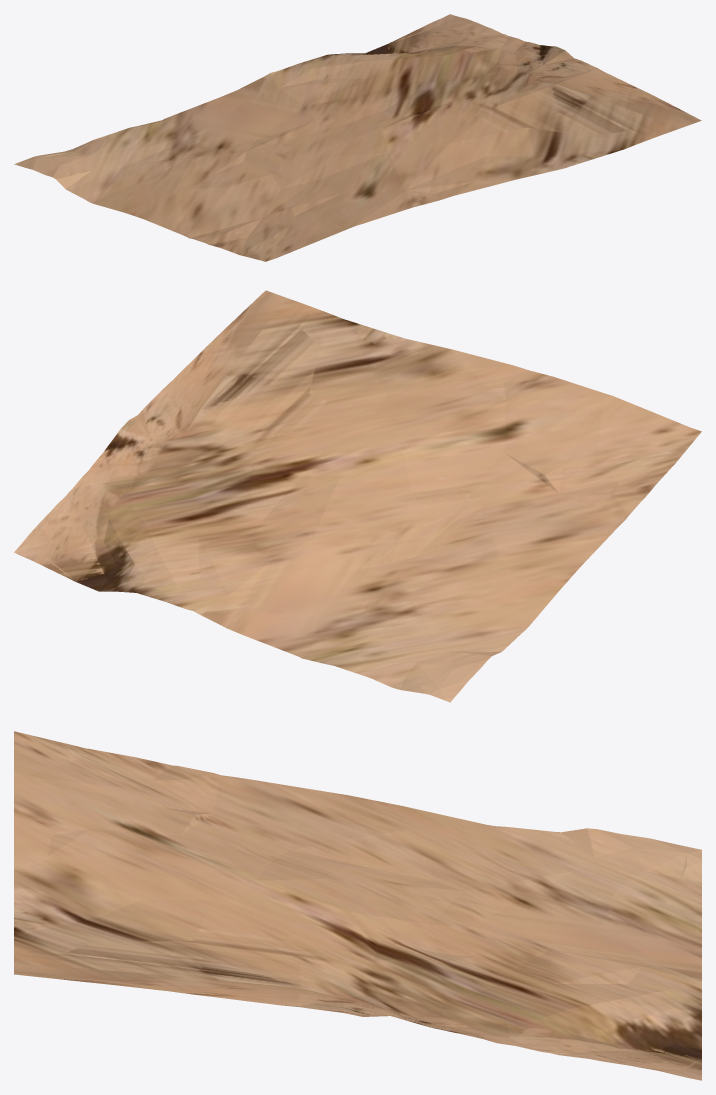
3 views of the same model, one above another, from view 1: azimuth 30°, elevation 25°; view 2: azimuth 150°, elevation 25°; view 3: azimuth 270°, elevation 25° (orthographic). The views are drawn at different scales.
Bounding box in the file's own units: 2.09 × 0.5565 × 2.09.
Materials: 2 (2 with a texture image).
